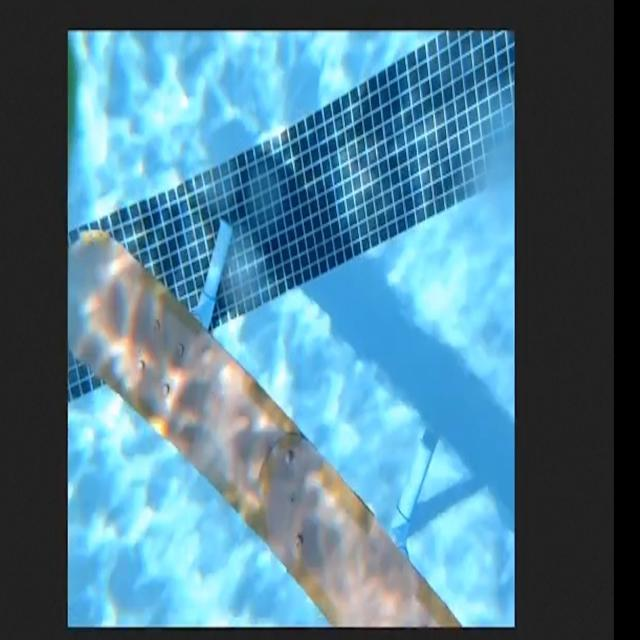Path: (69, 215, 465, 628)
